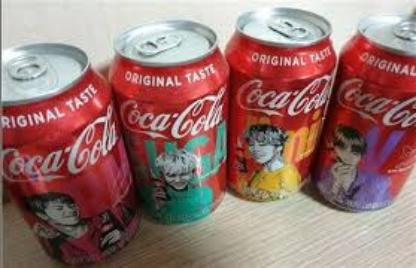Can: (0, 41, 142, 266), (109, 18, 229, 224), (312, 13, 416, 217), (226, 10, 332, 202)
